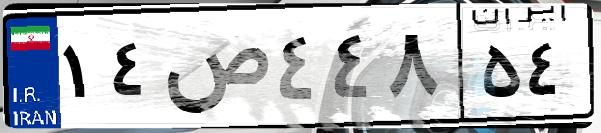1: (57, 26, 110, 100)
4: (270, 28, 330, 110), (330, 28, 385, 110), (525, 38, 570, 115), (110, 28, 158, 98)
5: (475, 38, 525, 113)
8: (385, 28, 445, 110)
ص: (158, 20, 270, 120)
